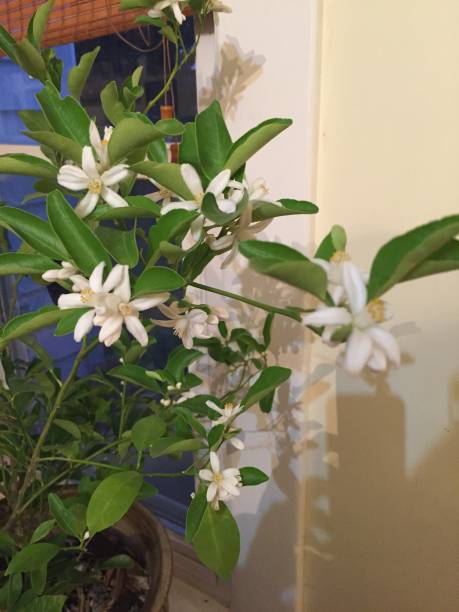flower: (301, 259, 407, 384), (158, 158, 239, 253), (49, 146, 135, 220), (56, 260, 126, 345), (104, 267, 171, 352), (211, 194, 286, 269), (83, 116, 135, 179), (152, 297, 213, 346), (196, 446, 246, 504), (198, 390, 244, 432)
